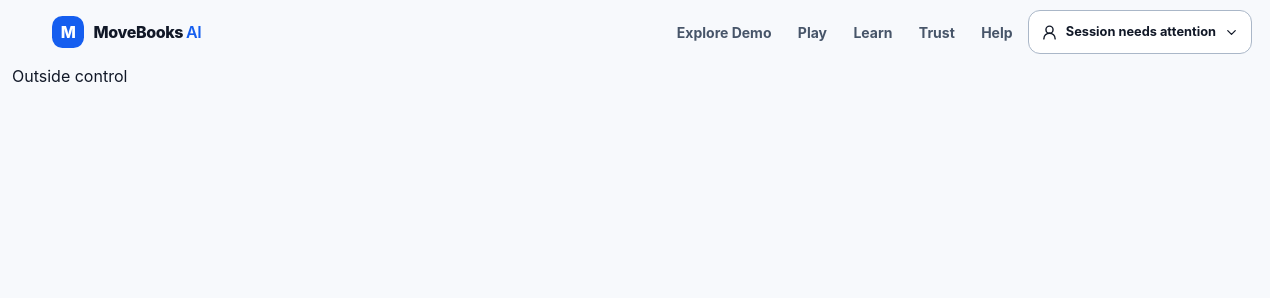
it: global account and settings shell › never offers sign-in alongside an unverified existing session
Click the button with aria-label "Account:".
click(1140, 32)  # box [1028, 10, 1252, 54]
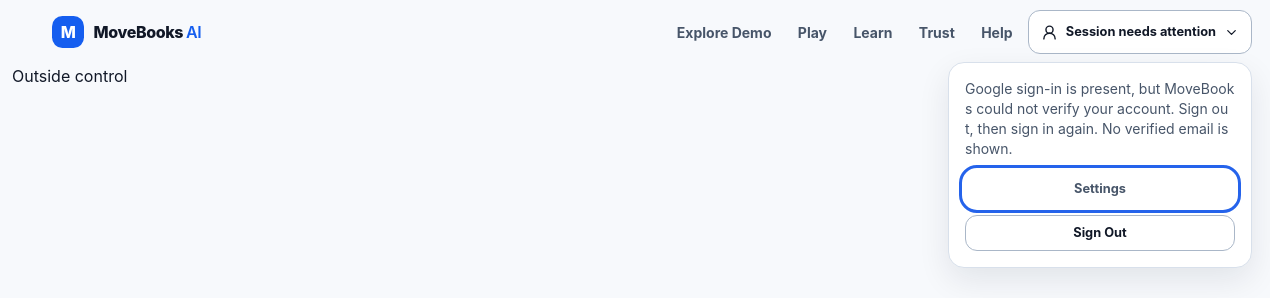
expect the message shows "MoveBooks could not verify your account": met, box [965, 80, 1234, 157]
expect the button "Sign Out" is enabled: met, box [965, 215, 1235, 251]
